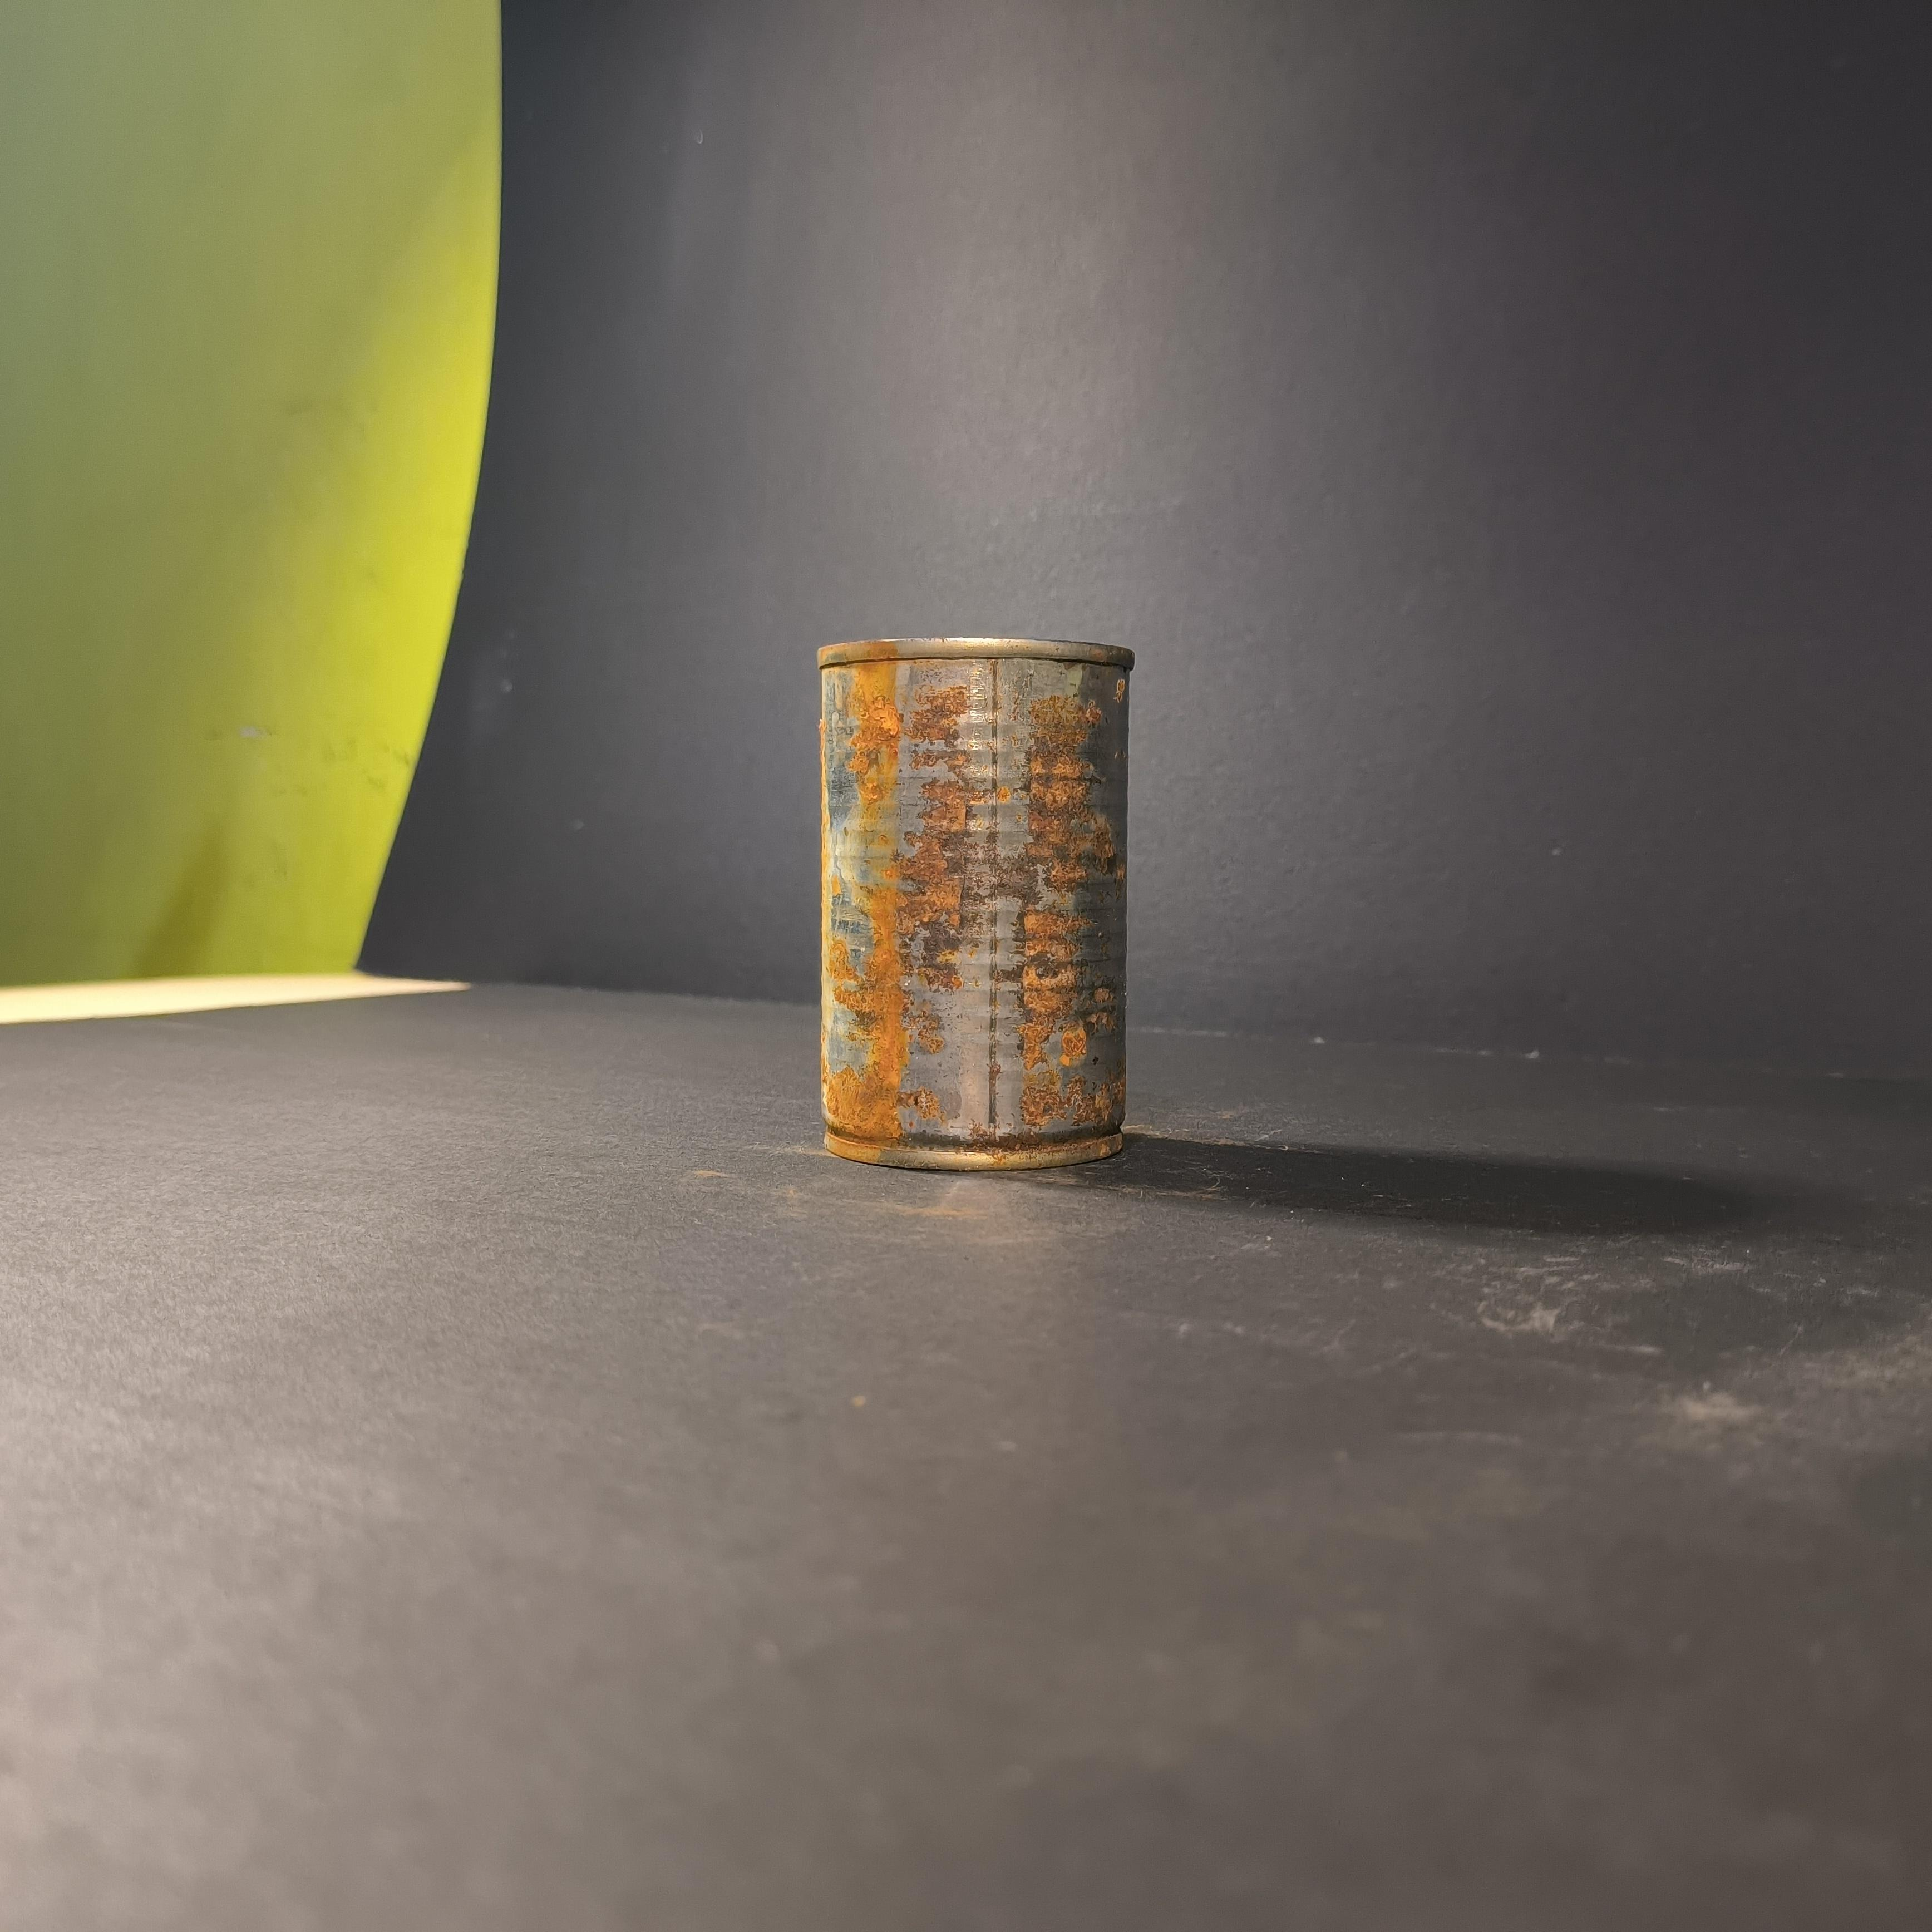Rusted: (798, 607, 1161, 1166)
